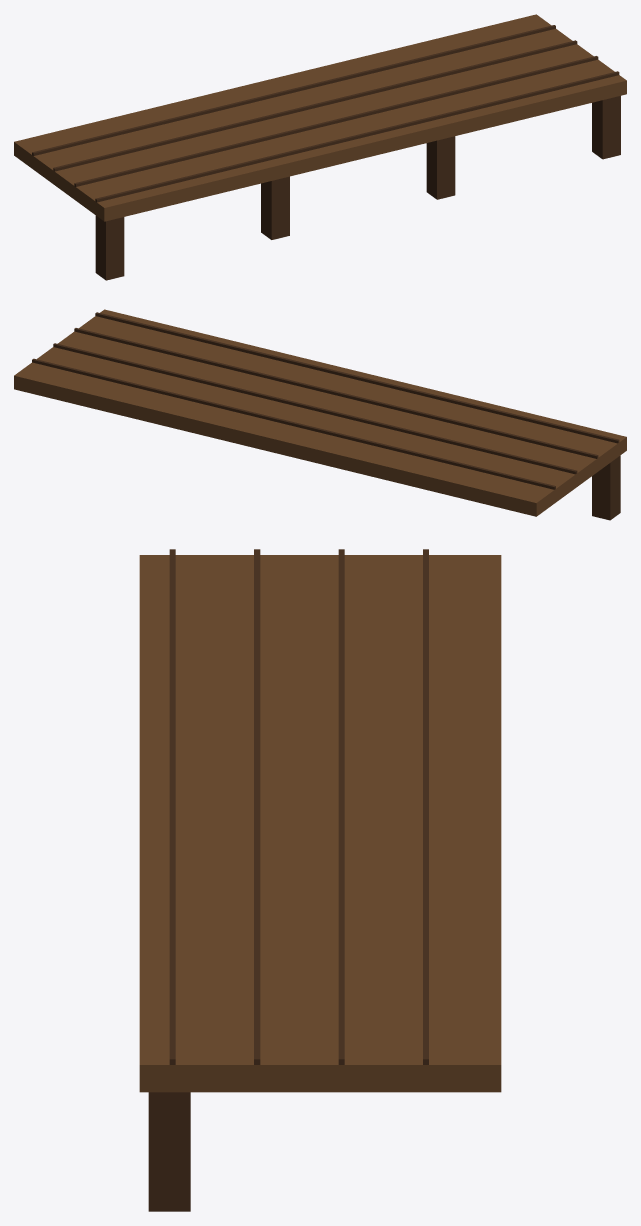
The model's file is hanok_toenmaru_straight.glb.
3 renders of one model, top to bottom at view 1: azimuth 30°, elevation 25°; view 2: azimuth 150°, elevation 25°; view 3: azimuth 270°, elevation 25°, orthographic. The views are drawn at different scales.
Parts seen in each view (by area): view 1: hanok_toenmaru_straight; view 2: hanok_toenmaru_straight; view 3: hanok_toenmaru_straight.
Boxes of the visible parts, x1,y1,x2,y2 form: hanok_toenmaru_straight: (14, 14, 626, 280); hanok_toenmaru_straight: (14, 309, 626, 520); hanok_toenmaru_straight: (139, 549, 501, 1211).
Size of the model in its own units: 4 by 0.57 by 1.2.
